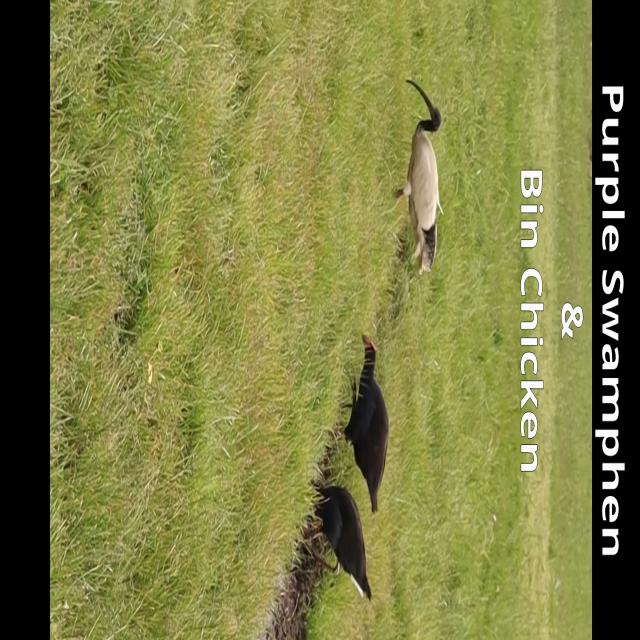Birds-Ibis: (390, 79, 444, 277)
